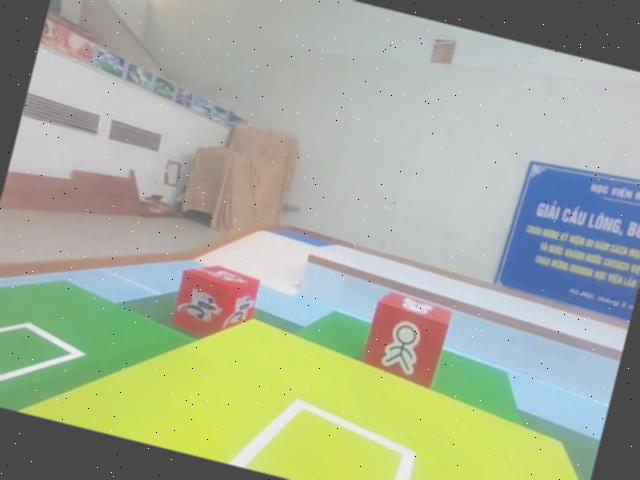R1: (164, 255, 266, 353)
R2 Real: (353, 284, 457, 395)
